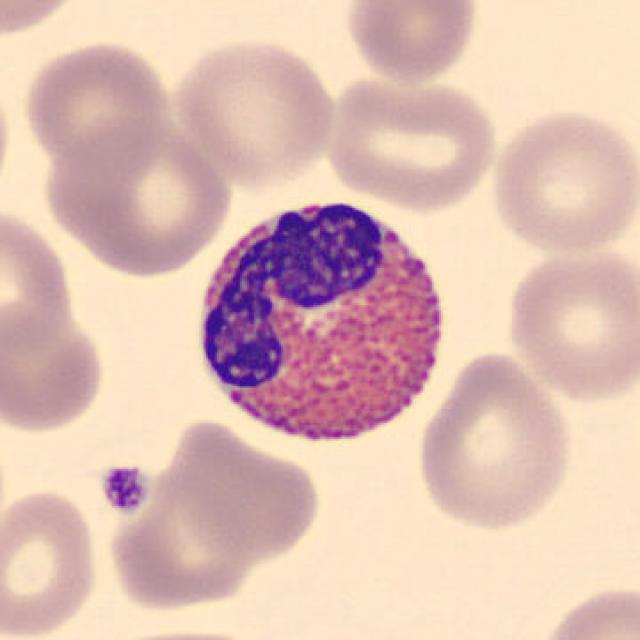Eosinophil: (187, 180, 460, 464)
Platelets: (96, 462, 155, 518)
RBC: (98, 416, 284, 615), (39, 113, 238, 280), (410, 347, 578, 536), (167, 34, 341, 190), (320, 70, 501, 214), (162, 418, 325, 564), (486, 106, 638, 257), (502, 240, 638, 405), (18, 36, 178, 176), (0, 483, 103, 640), (0, 303, 112, 439), (0, 201, 78, 365), (339, 0, 483, 86), (531, 580, 640, 640), (0, 0, 91, 41)
